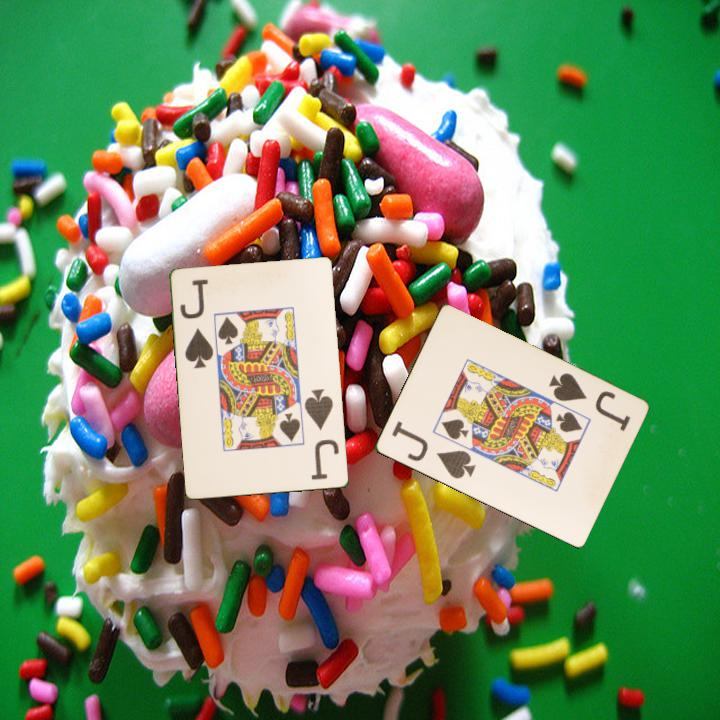Js: (388, 417, 479, 482), (544, 369, 633, 434), (301, 386, 342, 483), (177, 276, 216, 371)
